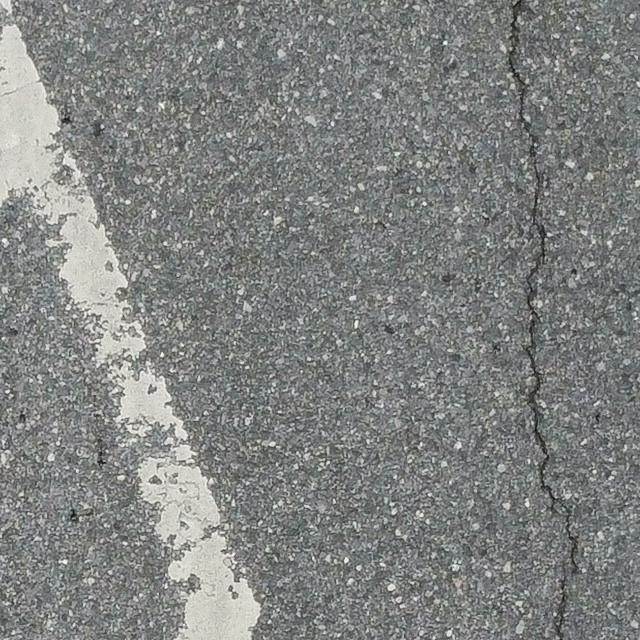LongitudinalCrack: (505, 2, 580, 640)
